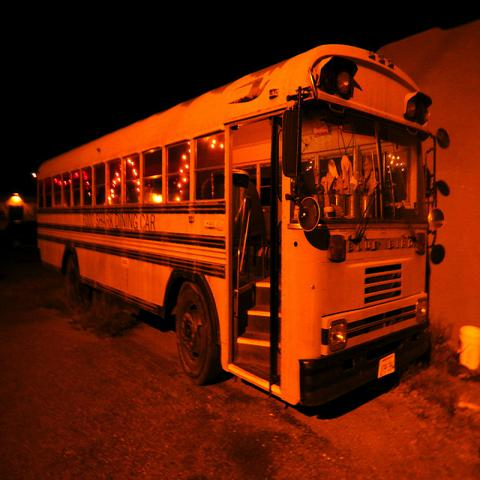bus: (28, 39, 452, 411)
